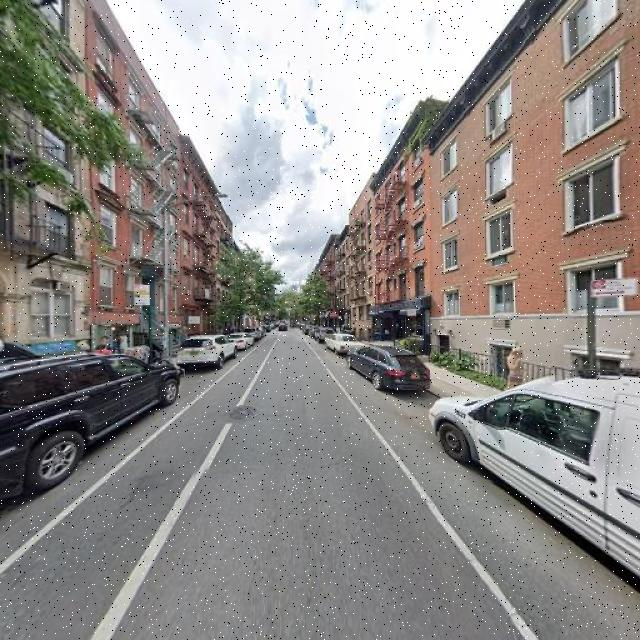Building: (433, 1, 640, 407), (1, 1, 84, 393), (90, 1, 178, 370), (374, 97, 429, 354), (182, 137, 232, 347), (349, 179, 371, 340)
